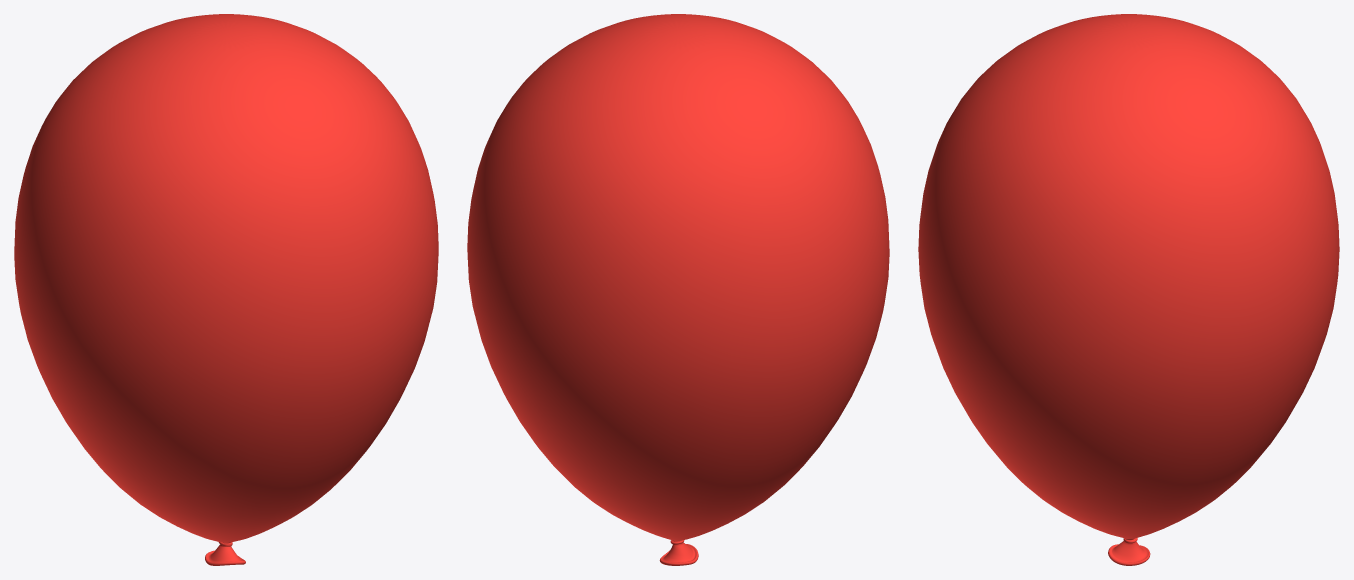
Rendered from balloon.glb.
The picture shows the model from 3 angles, left to right: view 1: azimuth 30°, elevation 25°; view 2: azimuth 150°, elevation 25°; view 3: azimuth 270°, elevation 25°; orthographic projection.
Visible parts, largest first — view 1: Balloon; view 2: Balloon; view 3: Balloon.
Part boxes in pixels (box(x1,y1,x2,y2)): Balloon: box(14, 14, 438, 565); Balloon: box(467, 14, 889, 565); Balloon: box(918, 14, 1339, 565).
Bounding box in the file's own units: 0.3111 × 0.4294 × 0.3111.
